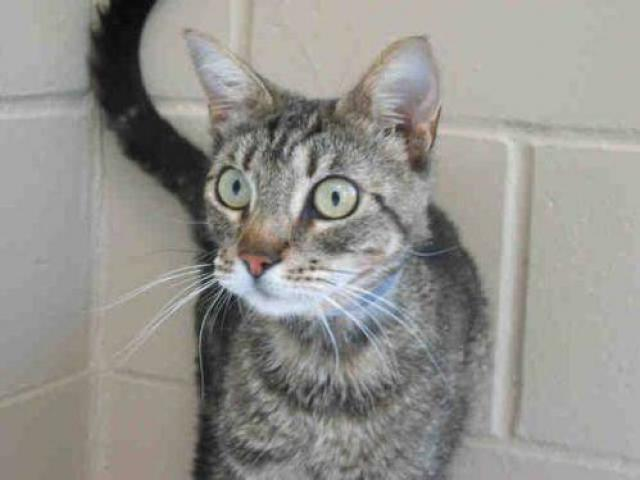cat: (138, 18, 497, 480)
